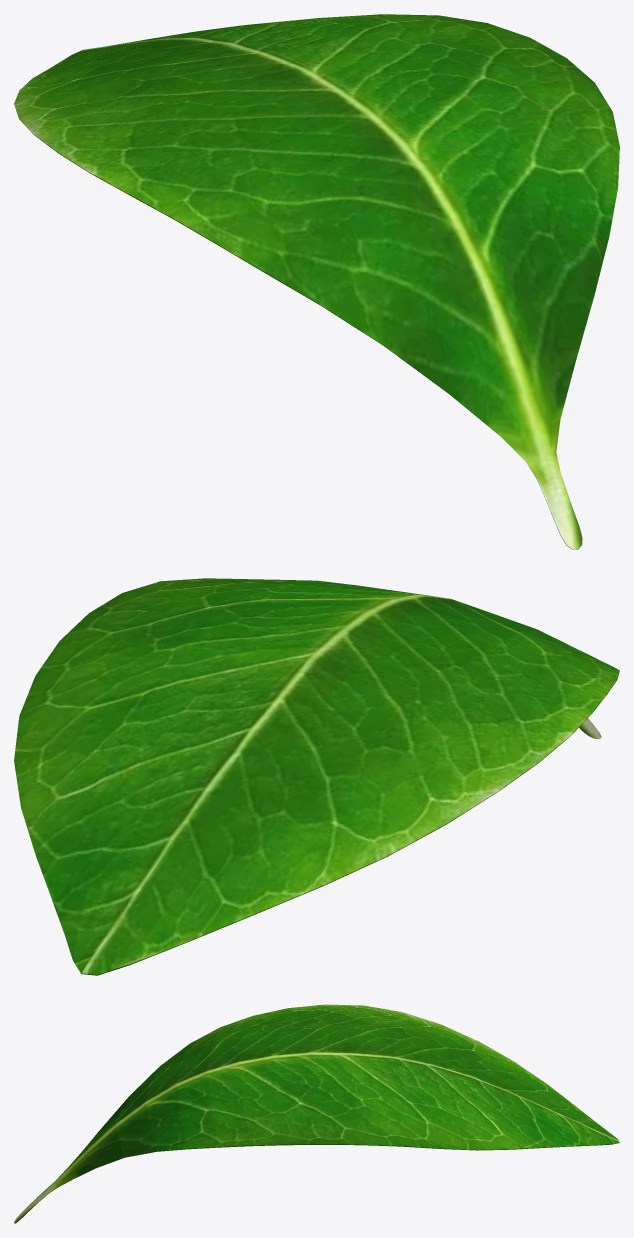
File: Daun.fbx
The picture shows the model from 3 angles, top to bottom: view 1: azimuth 30°, elevation 25°; view 2: azimuth 150°, elevation 25°; view 3: azimuth 270°, elevation 25°; orthographic projection. The views are drawn at different scales.
Parts seen in each view (by area): view 1: Plane; view 2: Plane; view 3: Plane.
Part boxes in pixels (<box>): Plane: <box>14,14,619,549</box>; Plane: <box>14,578,619,975</box>; Plane: <box>14,1004,619,1223</box>.
Bounding box in the file's own units: 433 × 787 × 245.
